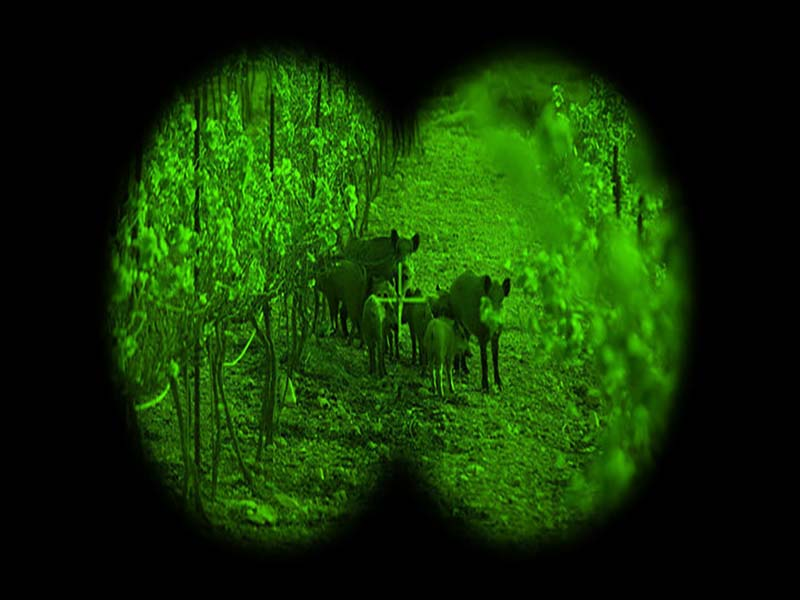cinghiale: (455, 265, 518, 396), (334, 226, 427, 299), (303, 253, 372, 332), (390, 277, 439, 368), (419, 311, 474, 392), (360, 289, 400, 380)
